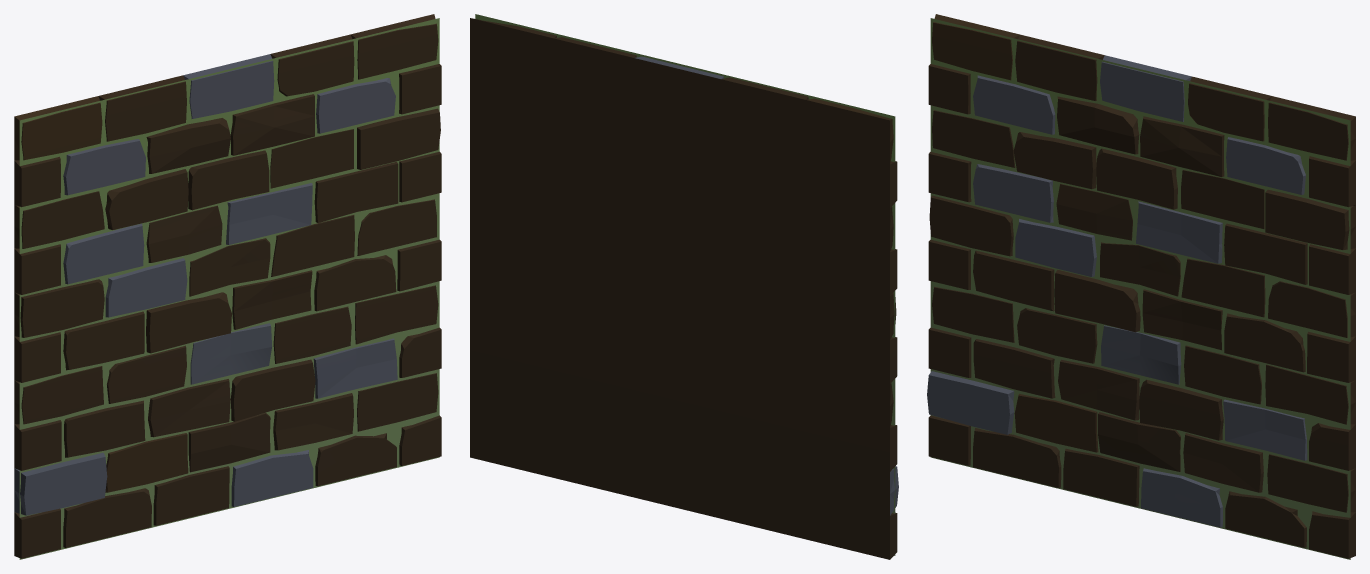
Rendered from Wall_30.fbx.
The picture shows the model from 3 angles, left to right: view 1: azimuth 30°, elevation 25°; view 2: azimuth 150°, elevation 25°; view 3: azimuth 330°, elevation 25°; orthographic projection.
Visible parts, largest first — view 1: Wall_30; view 2: Wall_30; view 3: Wall_30.
Boxes of the visible parts, x1,y1,x2,y2 form: Wall_30: (14, 14, 441, 559); Wall_30: (470, 14, 898, 559); Wall_30: (927, 14, 1355, 559).
Size of the model in its own units: 4 by 4 by 0.1562.
